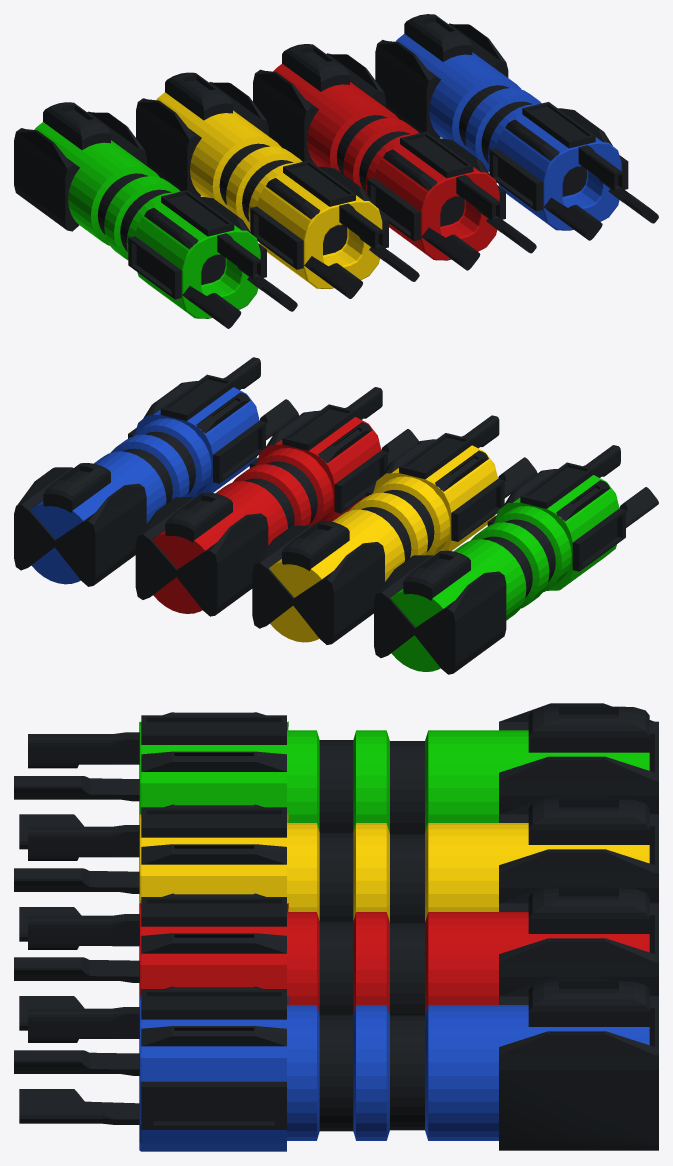
File: PlasmaGunLevel2.fbx
The picture shows the model from 3 angles, top to bottom: view 1: azimuth 30°, elevation 25°; view 2: azimuth 150°, elevation 25°; view 3: azimuth 270°, elevation 25°; orthographic projection. The views are drawn at different scales.
Visible parts, largest first — view 1: PlasmaGunLevel2Green, PlasmaGunLevel2Blue, PlasmaGunLevel2Yellow, PlasmaGunLevel2Red; view 2: PlasmaGunLevel2Green, PlasmaGunLevel2Yellow, PlasmaGunLevel2Blue, PlasmaGunLevel2Red; view 3: PlasmaGunLevel2Blue, PlasmaGunLevel2Red, PlasmaGunLevel2Green, PlasmaGunLevel2Yellow.
Boxes of the visible parts, left/top/right/bottom form: PlasmaGunLevel2Green: left=14, top=102, right=297, bottom=328; PlasmaGunLevel2Blue: left=375, top=14, right=658, bottom=240; PlasmaGunLevel2Yellow: left=136, top=72, right=419, bottom=298; PlasmaGunLevel2Red: left=253, top=44, right=536, bottom=270; PlasmaGunLevel2Green: left=374, top=445, right=658, bottom=674; PlasmaGunLevel2Yellow: left=252, top=415, right=537, bottom=644; PlasmaGunLevel2Blue: left=14, top=357, right=298, bottom=586; PlasmaGunLevel2Red: left=135, top=387, right=419, bottom=616; PlasmaGunLevel2Blue: left=14, top=977, right=658, bottom=1151; PlasmaGunLevel2Red: left=14, top=885, right=658, bottom=1030; PlasmaGunLevel2Green: left=14, top=703, right=658, bottom=849; PlasmaGunLevel2Yellow: left=14, top=796, right=658, bottom=941.
Size of the model in its own units: 346 by 71.06 by 274.
